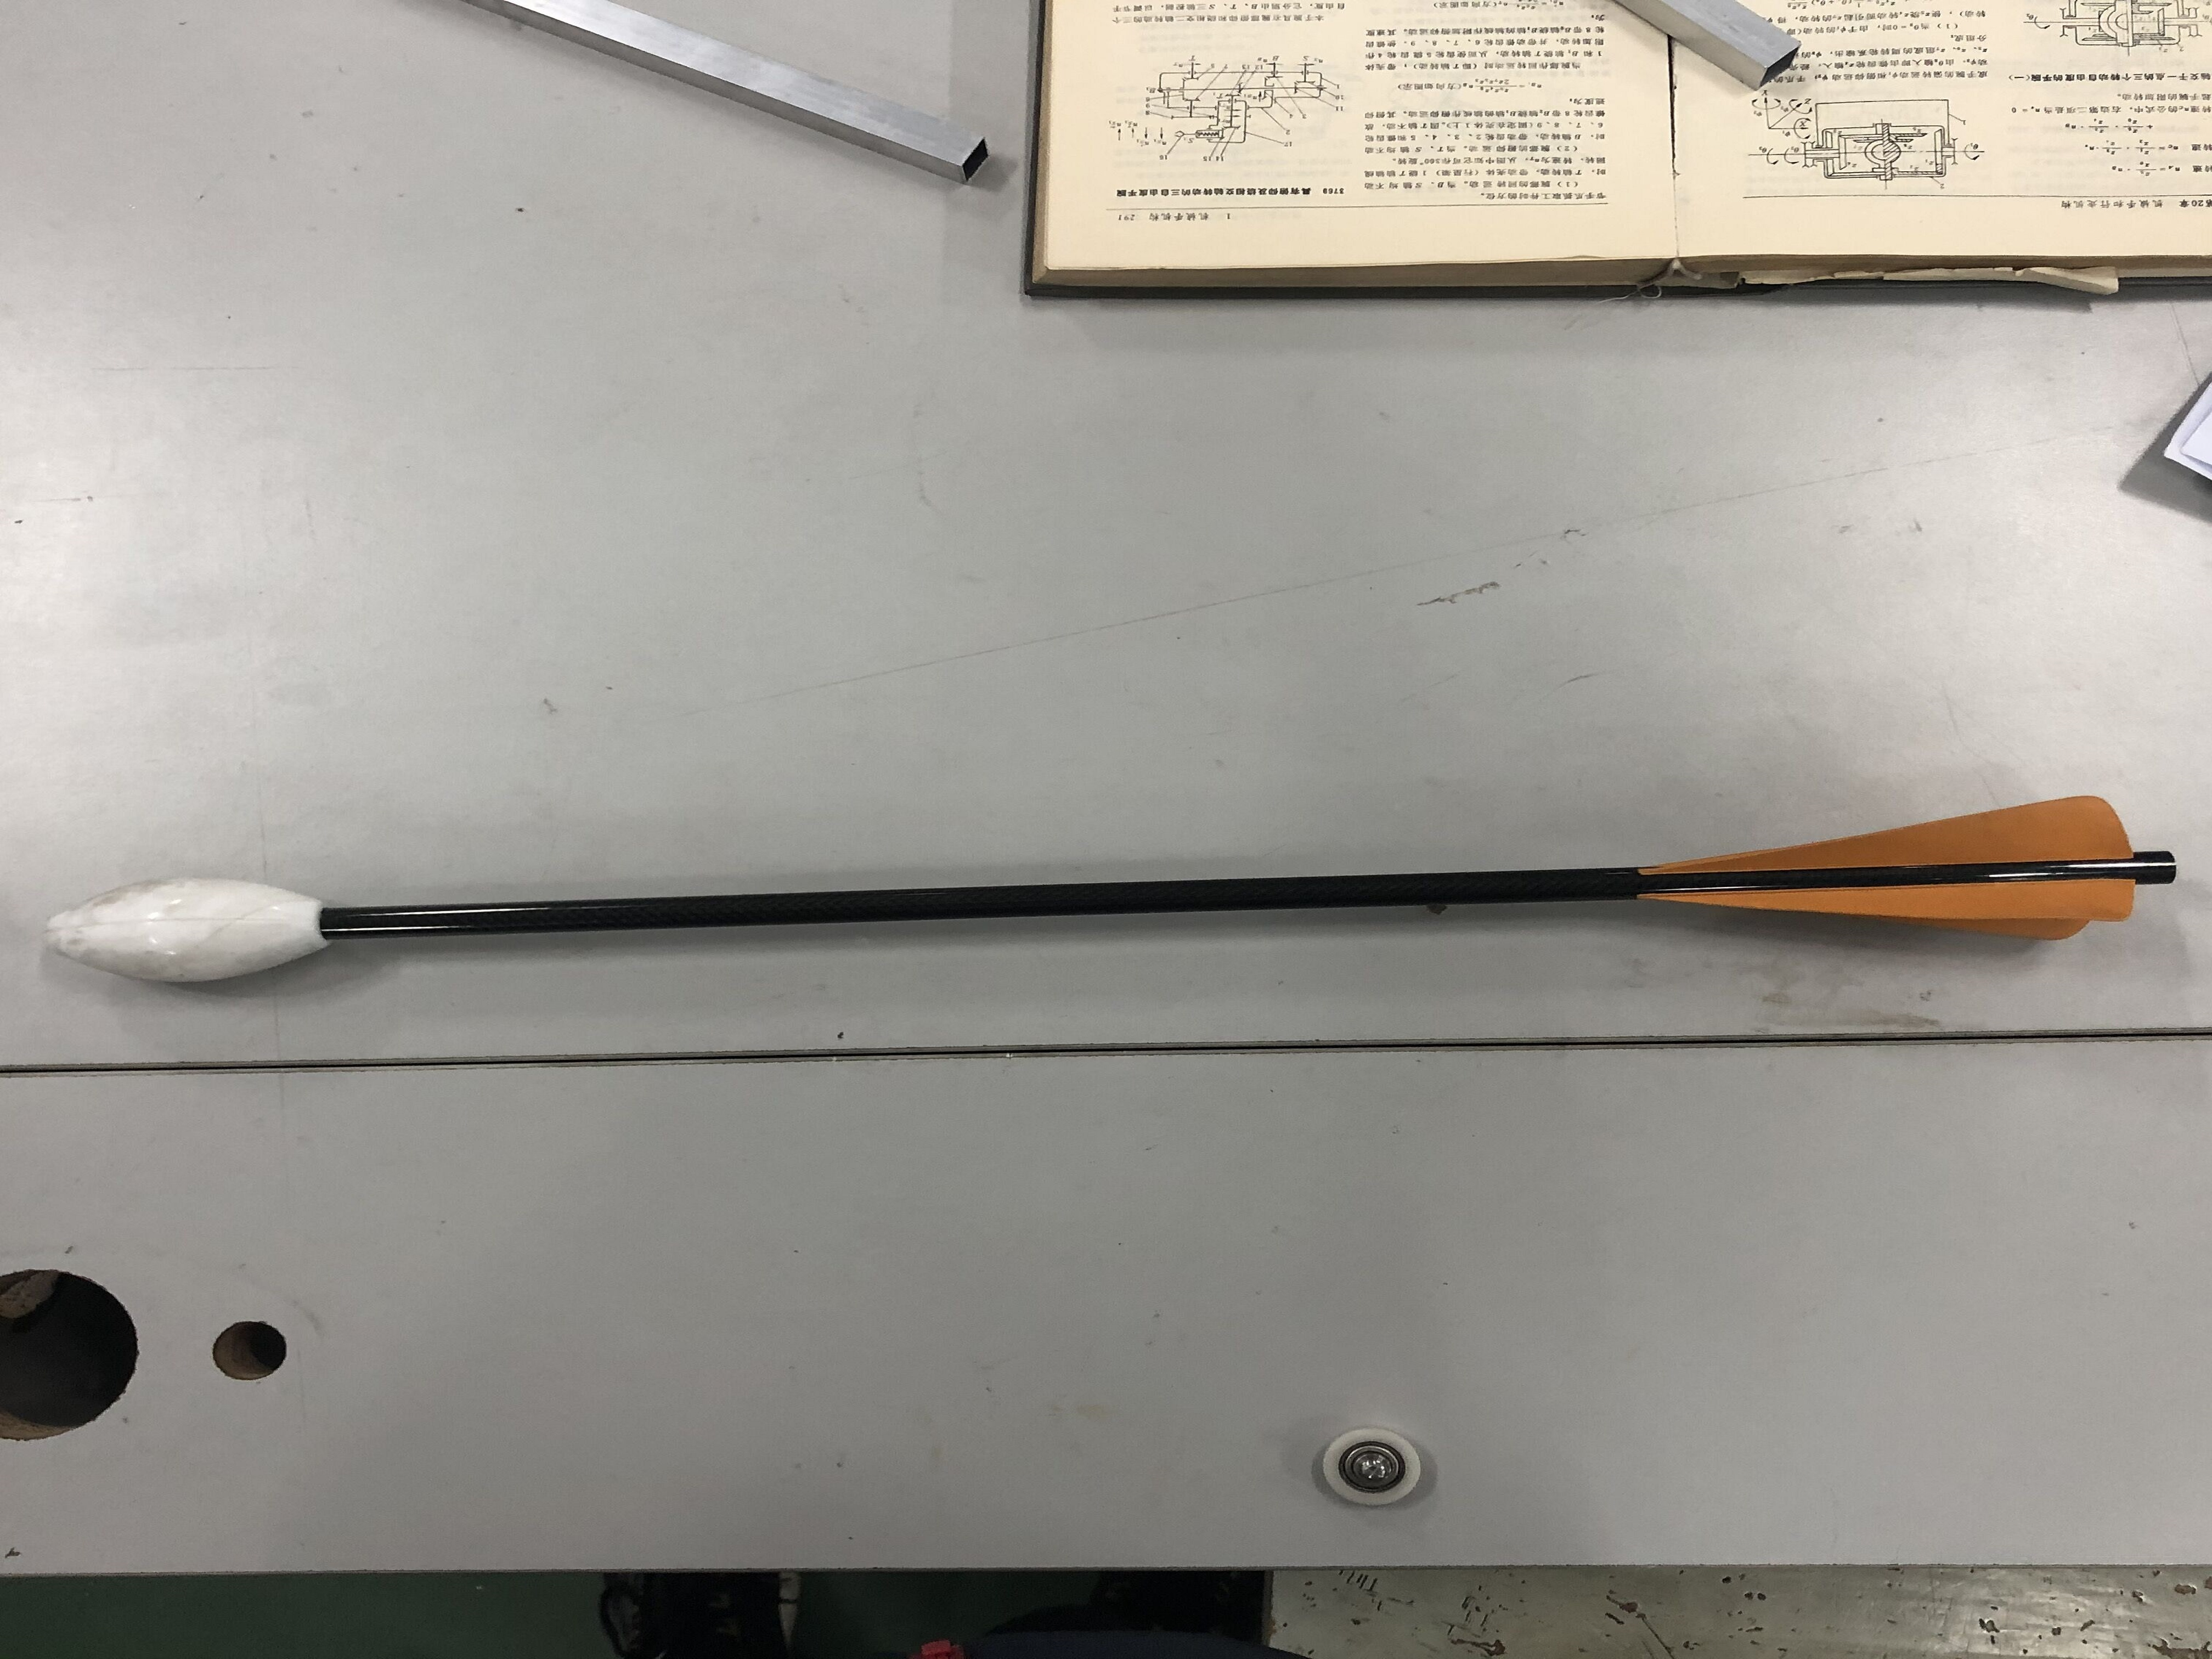arrow: (40, 786, 2182, 988)
arrowFront: (44, 870, 340, 986)
